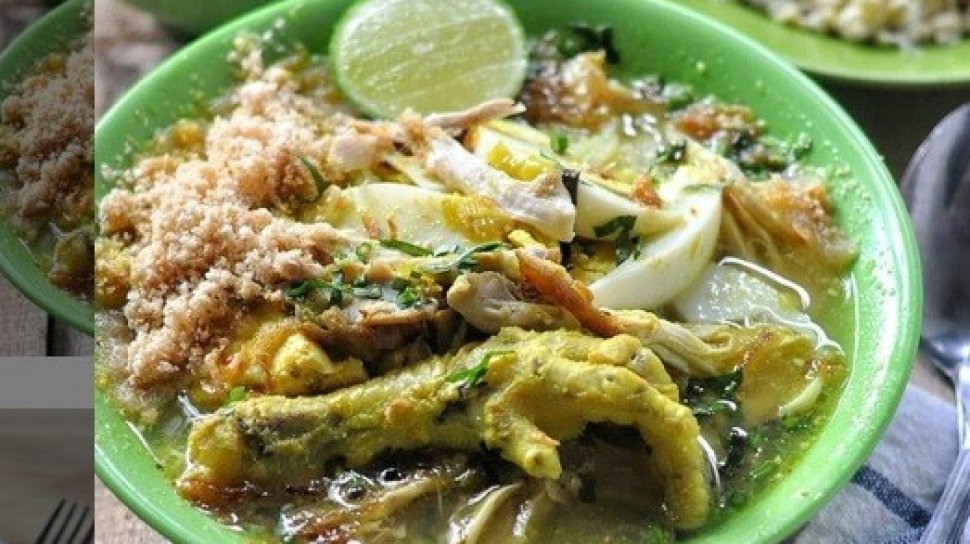soto: (101, 4, 884, 544)
